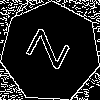Z: (25, 27, 80, 76)
